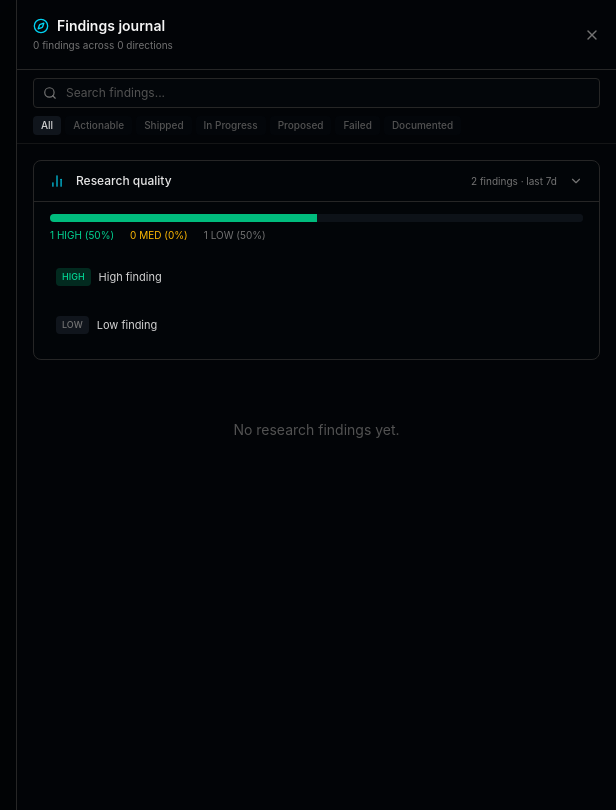
Test: ResearchBrowser quality card interactivity › grade filter narrows the listed findings to the selected grade
The image size is (616, 810).
Expected: the text "Research quality" is shown, left=76, top=173, right=172, bottom=188
Expected: the text "High finding" is shown, left=99, top=269, right=162, bottom=285
Click the button "1 HIGH (50%)": (82, 236) left=50, top=228, right=114, bottom=243
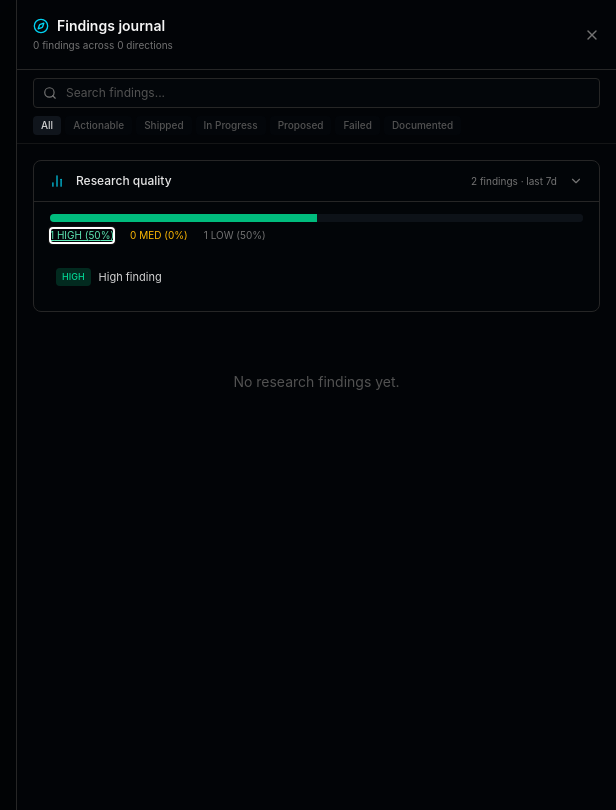
Expected: the text "High finding" is shown, left=99, top=269, right=162, bottom=285
Expected: the button "Low finding" is gone
Note: Clicking again clears the filter
Click the button "1 HIGH (50%)": (82, 236) left=50, top=228, right=114, bottom=243
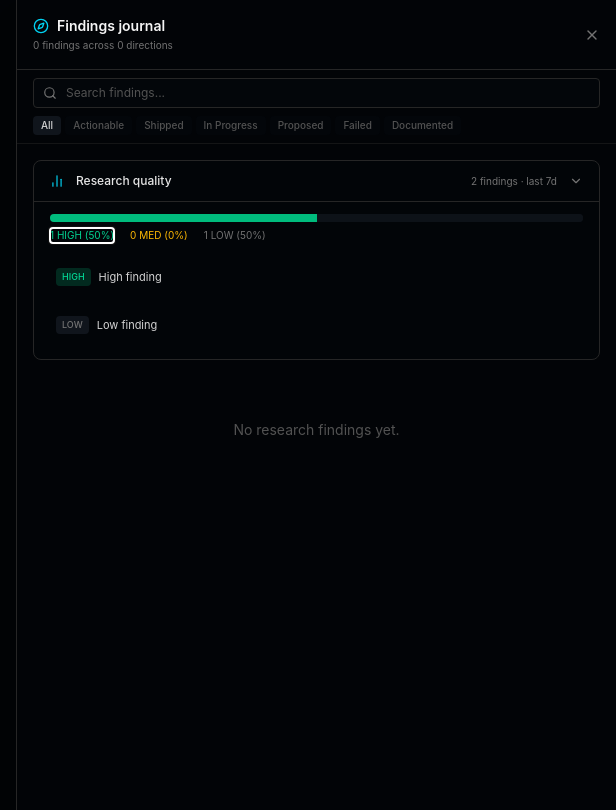
Expected: the text "Low finding" is shown, left=97, top=317, right=157, bottom=333
